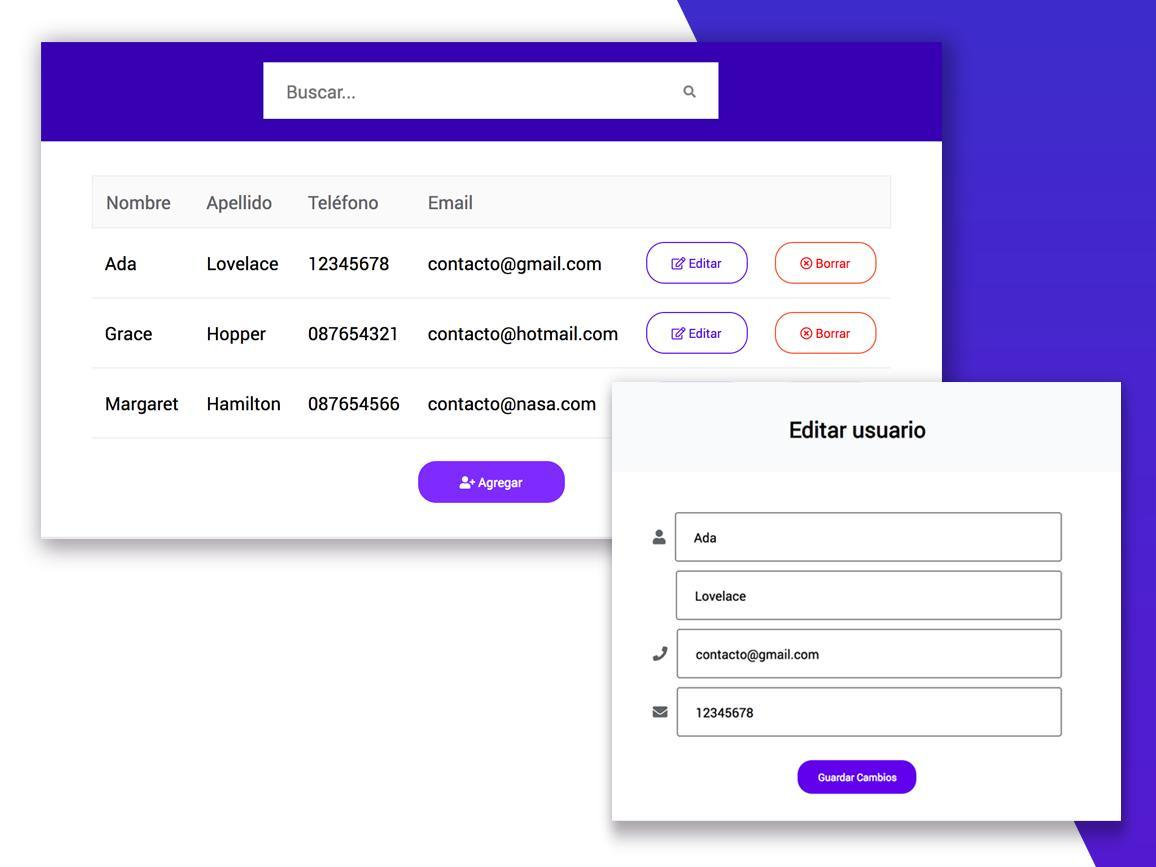button: (418, 461, 567, 504), (644, 312, 749, 356), (647, 242, 750, 286), (774, 242, 877, 286), (775, 311, 878, 355), (798, 761, 918, 795)
icon: (650, 642, 675, 668), (651, 699, 672, 727), (651, 526, 669, 553)
input: (264, 63, 720, 121), (677, 513, 1062, 563), (677, 571, 1062, 621), (677, 690, 1064, 736), (680, 631, 1062, 677)
